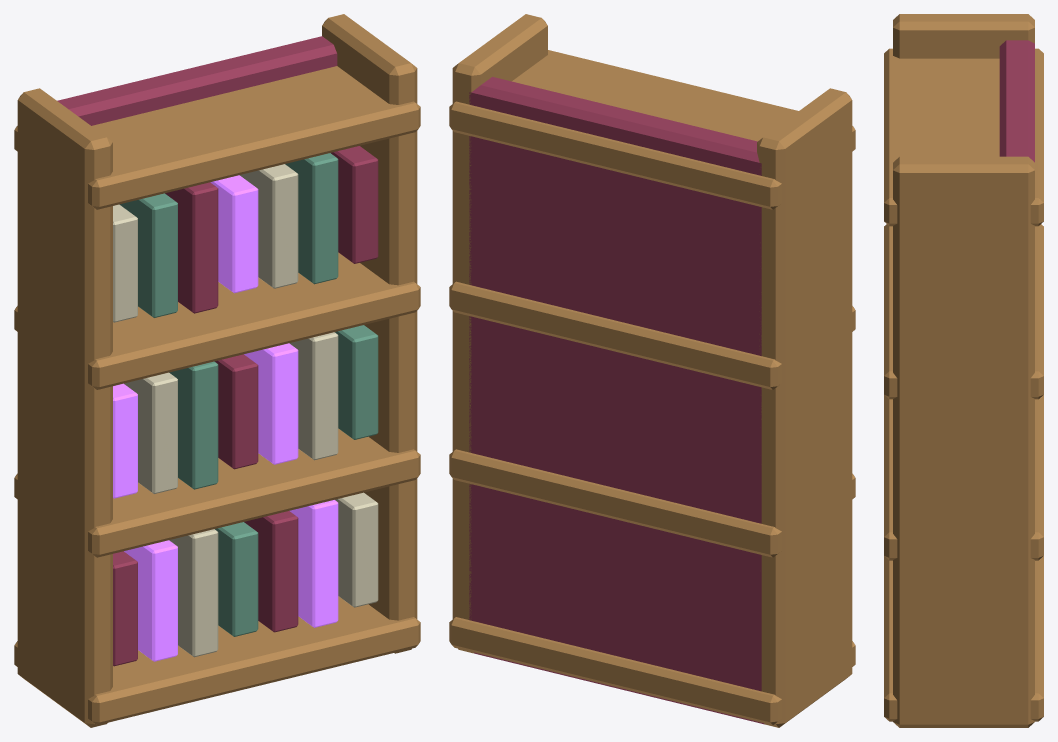
Rendered from bookcase.fbx.
3 renders of one model, left to right at view 1: azimuth 30°, elevation 25°; view 2: azimuth 150°, elevation 25°; view 3: azimuth 270°, elevation 25°, orthographic. The views are drawn at different scales.
Parts seen in each view (by area): view 1: side, shelf.003, side.001, shelf.002, shelf, shelf.001, back panel, bound tome.016, bound tome.019, bound tome.018, bound tome.009, bound tome.002 (+16 smaller); view 2: back panel, side, shelf.003, side.001, shelf.001, shelf, shelf.002; view 3: side.001, shelf.003, side, back panel, shelf.002, shelf, shelf.001.
Part boxes in pixels (bbox=[...]): side: bbox=[17, 88, 112, 727]; shelf.003: bbox=[14, 66, 420, 209]; side.001: bbox=[322, 14, 417, 653]; shelf.002: bbox=[14, 252, 420, 389]; shelf: bbox=[14, 596, 420, 725]; shelf.001: bbox=[14, 428, 420, 557]; back panel: bbox=[57, 36, 337, 125]; bound tome.016: bbox=[165, 182, 218, 313]; bound tome.019: bbox=[285, 153, 338, 284]; bound tome.018: bbox=[239, 164, 298, 288]; bound tome.009: bbox=[169, 361, 218, 489]; bound tome.002: bbox=[169, 529, 218, 657]; back panel: bbox=[469, 77, 764, 724]; side: bbox=[757, 88, 852, 727]; shelf.003: bbox=[449, 50, 855, 209]; side.001: bbox=[452, 14, 547, 653]; shelf.001: bbox=[449, 449, 855, 557]; shelf: bbox=[449, 617, 855, 725]; shelf.002: bbox=[449, 281, 855, 389]; side.001: bbox=[893, 156, 1034, 727]; shelf.003: bbox=[884, 48, 1043, 226]; side: bbox=[893, 14, 1034, 58]; back panel: bbox=[999, 40, 1034, 162]; shelf.002: bbox=[884, 224, 1043, 399]; shelf: bbox=[884, 556, 1043, 721]; shelf.001: bbox=[884, 395, 1043, 560].
Size of the model in its own units: 83 by 140 by 36.
